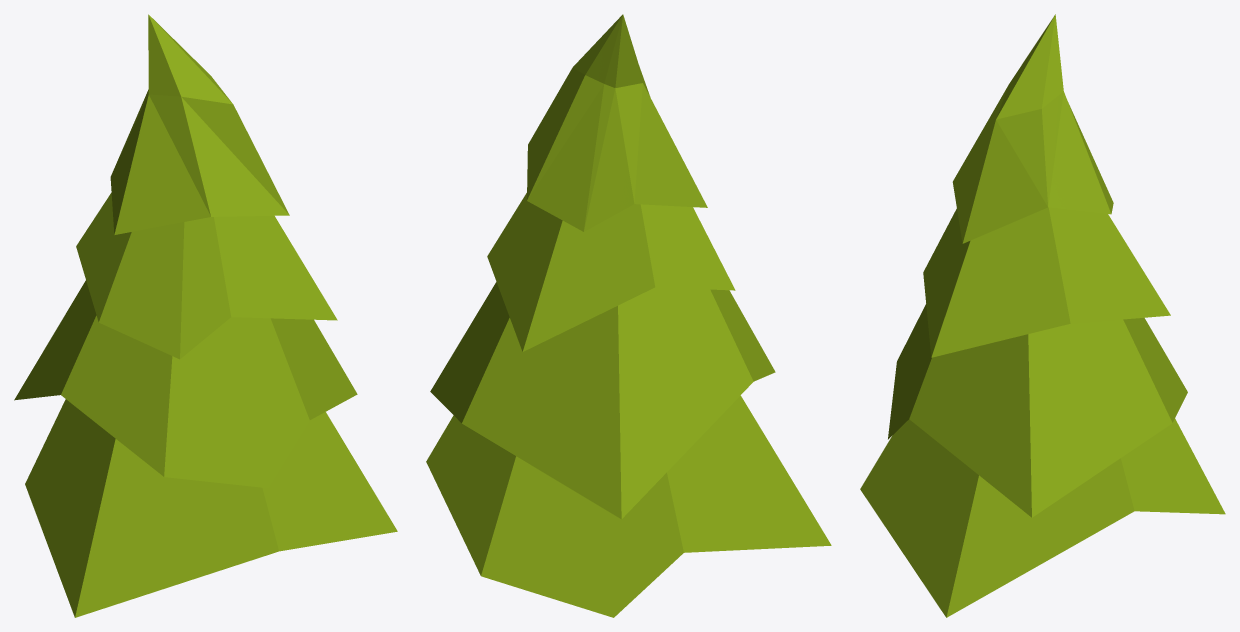
Rendered from Vegetation_Modular_Tree_Foliage_Alpine_03.fbx.
3 renders of one model, left to right at view 1: azimuth 30°, elevation 25°; view 2: azimuth 150°, elevation 25°; view 3: azimuth 270°, elevation 25°, orthographic. The views are drawn at different scales.
Visible parts, largest first — view 1: Vegetation_Modular_Tree_Foliage_Alpine_03; view 2: Vegetation_Modular_Tree_Foliage_Alpine_03; view 3: Vegetation_Modular_Tree_Foliage_Alpine_03.
Part boxes in pixels (x1,y1,x2,y2): Vegetation_Modular_Tree_Foliage_Alpine_03: (14, 14, 397, 617); Vegetation_Modular_Tree_Foliage_Alpine_03: (426, 14, 831, 617); Vegetation_Modular_Tree_Foliage_Alpine_03: (860, 14, 1225, 617).
Bounding box in the file's own units: 95.65 × 143 × 92.82.
